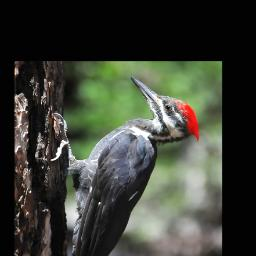Woodpecker: (50, 75, 201, 256)
